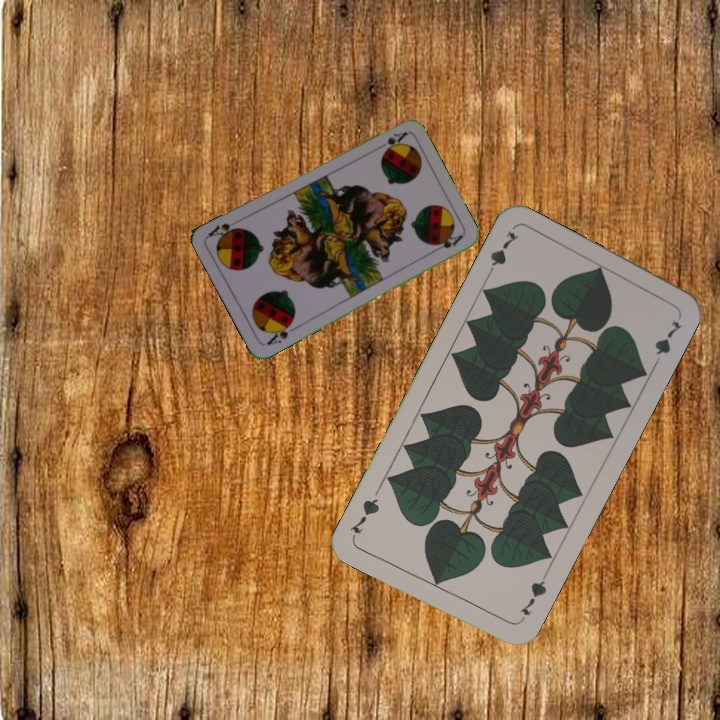G7: (482, 227, 522, 281), (515, 570, 549, 625)
SA: (262, 318, 299, 348), (381, 127, 410, 153)
